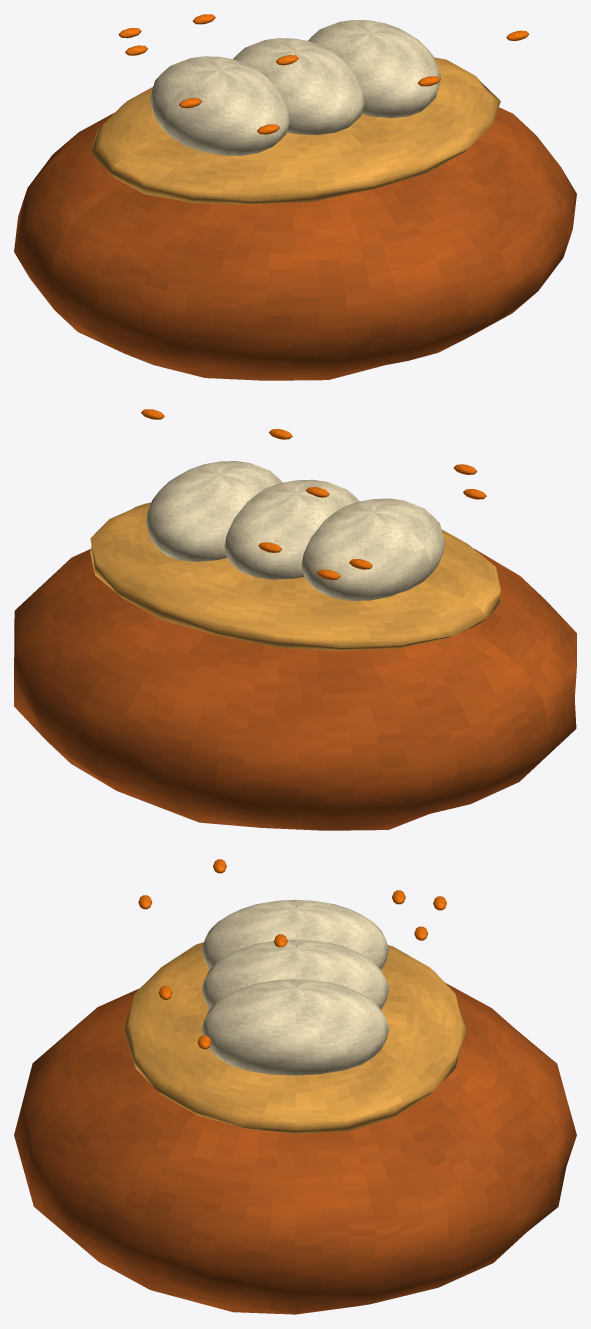
Rendered from bread_egg_salad.glb.
3 renders of one model, top to bottom at view 1: azimuth 30°, elevation 25°; view 2: azimuth 150°, elevation 25°; view 3: azimuth 270°, elevation 25°, orthographic. The views are drawn at different scales.
Visible parts, largest first — view 1: ふっくらした生地.004, 具材を載せるくぼみ.004, たまごサラダ, たまごサラダ.002, たまごサラダ.001; view 2: ふっくらした生地.004, 具材を載せるくぼみ.004, たまごサラダ, たまごサラダ.002, たまごサラダ.001; view 3: ふっくらした生地.004, 具材を載せるくぼみ.004, たまごサラダ.002, たまごサラダ, たまごサラダ.001.
Part boxes in pixels (bbox=[...]): ふっくらした生地.004: bbox=[14, 107, 576, 380]; 具材を載せるくぼみ.004: bbox=[90, 57, 500, 204]; たまごサラダ: bbox=[150, 56, 289, 155]; たまごサラダ.002: bbox=[308, 20, 440, 118]; たまごサラダ.001: bbox=[233, 38, 364, 135]; ふっくらした生地.004: bbox=[14, 548, 576, 830]; 具材を載せるくぼみ.004: bbox=[90, 502, 500, 651]; たまごサラダ: bbox=[301, 498, 445, 600]; たまごサラダ.002: bbox=[145, 461, 282, 561]; たまごサラダ.001: bbox=[224, 479, 359, 579]; ふっくらした生地.004: bbox=[14, 983, 576, 1314]; 具材を載せるくぼみ.004: bbox=[123, 942, 467, 1133]; たまごサラダ.002: bbox=[201, 979, 389, 1075]; たまごサラダ: bbox=[201, 899, 389, 969]; たまごサラダ.001: bbox=[201, 939, 389, 1009].
Bounding box in the file's own units: 0.7929 × 0.4508 × 0.72.
4 materials, 4 textured.
